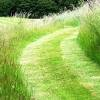grass: (1, 16, 100, 100)
